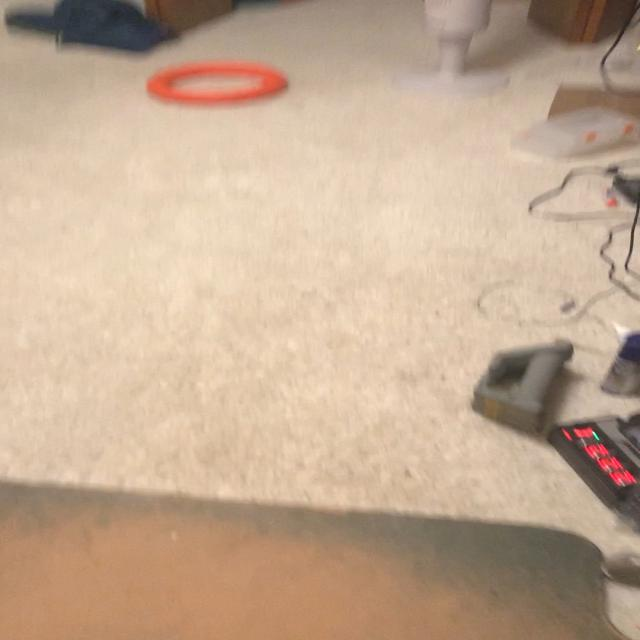notes: (147, 60, 286, 104)
